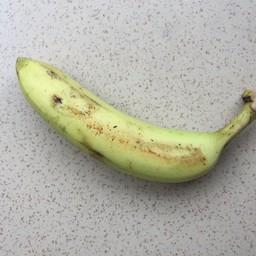Good_banana: (7, 45, 245, 199)
